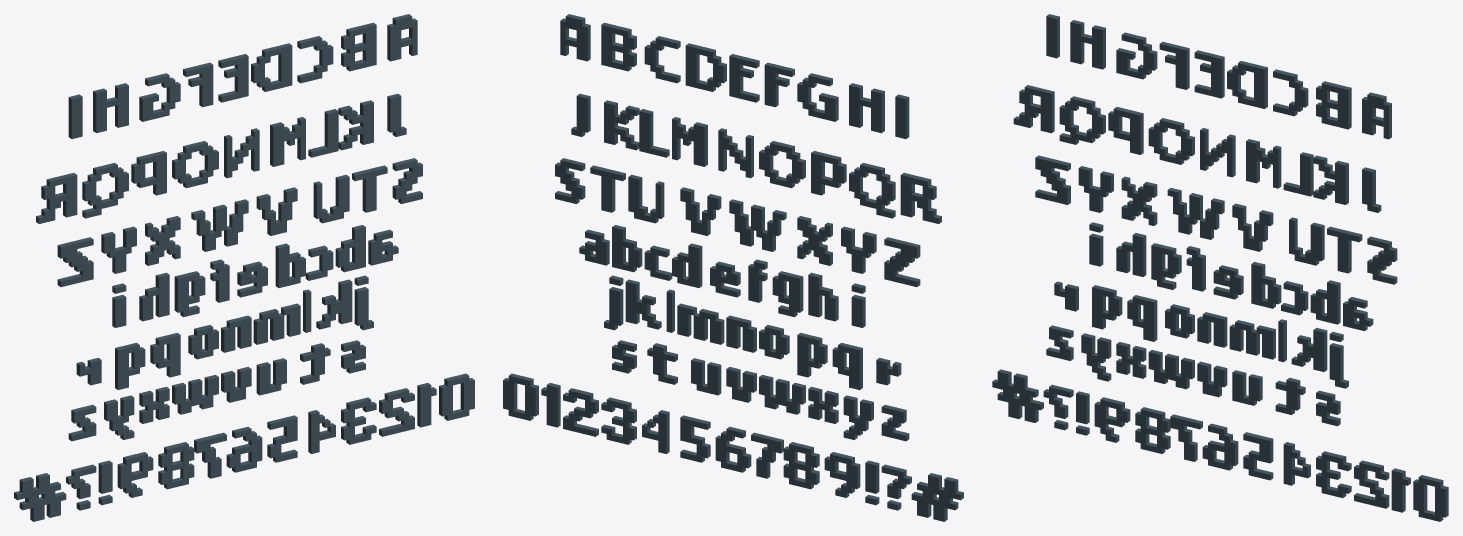
File: alphabet.glb
The picture shows the model from 3 angles, left to right: view 1: azimuth 30°, elevation 25°; view 2: azimuth 150°, elevation 25°; view 3: azimuth 330°, elevation 25°; orthographic projection.
Parts seen in each view (by area): view 1: group1052243527, group996138535, group1940237727, group1352029002, group739360609, group1820678133, group2141460794, group1519468932, group1910662591, group1330922118, group1667535781, group833009316 (+52 smaller); view 2: group1052243527, group996138535, group1940237727, group1352029002, group739360609, group1820678133, group2141460794, group1519468932, group1910662591, group1330922118, group1667535781, group833009316 (+52 smaller); view 3: group1052243527, group996138535, group1940237727, group1820678133, group1352029002, group739360609, group2141460794, group1519468932, group1330922118, group1910662591, group833009316, group1667535781 (+51 smaller).
Boxes of the visible parts, bbox=[...] form: group1052243527: bbox=[191, 199, 248, 251]; group996138535: bbox=[14, 473, 66, 521]; group1940237727: bbox=[82, 163, 128, 218]; group1352029002: bbox=[36, 173, 77, 223]; group739360609: bbox=[253, 303, 300, 344]; group1820678133: bbox=[341, 22, 376, 71]; group2141460794: bbox=[251, 43, 292, 91]; group1519468932: bbox=[172, 141, 218, 188]; group1910662591: bbox=[158, 442, 194, 489]; group1330922118: bbox=[93, 83, 128, 133]; group1667535781: bbox=[172, 375, 218, 414]; group833009316: bbox=[439, 373, 474, 420]; group1052243527: bbox=[729, 199, 786, 251]; group996138535: bbox=[911, 473, 963, 521]; group1940237727: bbox=[849, 163, 895, 218]; group1352029002: bbox=[900, 173, 941, 223]; group739360609: bbox=[677, 303, 724, 344]; group1820678133: bbox=[601, 22, 636, 71]; group2141460794: bbox=[685, 43, 726, 91]; group1519468932: bbox=[759, 141, 805, 188]; group1910662591: bbox=[783, 442, 819, 489]; group1330922118: bbox=[849, 83, 884, 133]; group1667535781: bbox=[759, 375, 805, 414]; group833009316: bbox=[503, 373, 538, 420]; group1052243527: bbox=[1167, 188, 1224, 239]; group996138535: bbox=[992, 369, 1043, 422]; group1940237727: bbox=[1059, 96, 1105, 144]; group1820678133: bbox=[1316, 81, 1351, 129]; group1352029002: bbox=[1013, 85, 1054, 133]; group739360609: bbox=[1229, 320, 1275, 359]; group2141460794: bbox=[1227, 61, 1267, 108]; group1519468932: bbox=[1148, 118, 1194, 164]; group1330922118: bbox=[1070, 20, 1105, 69]; group1910662591: bbox=[1135, 407, 1170, 453]; group833009316: bbox=[1413, 475, 1448, 521]; group1667535781: bbox=[1148, 350, 1194, 389].
Bounding box in the file's own units: 1.68 × 1.45 × 0.02.
